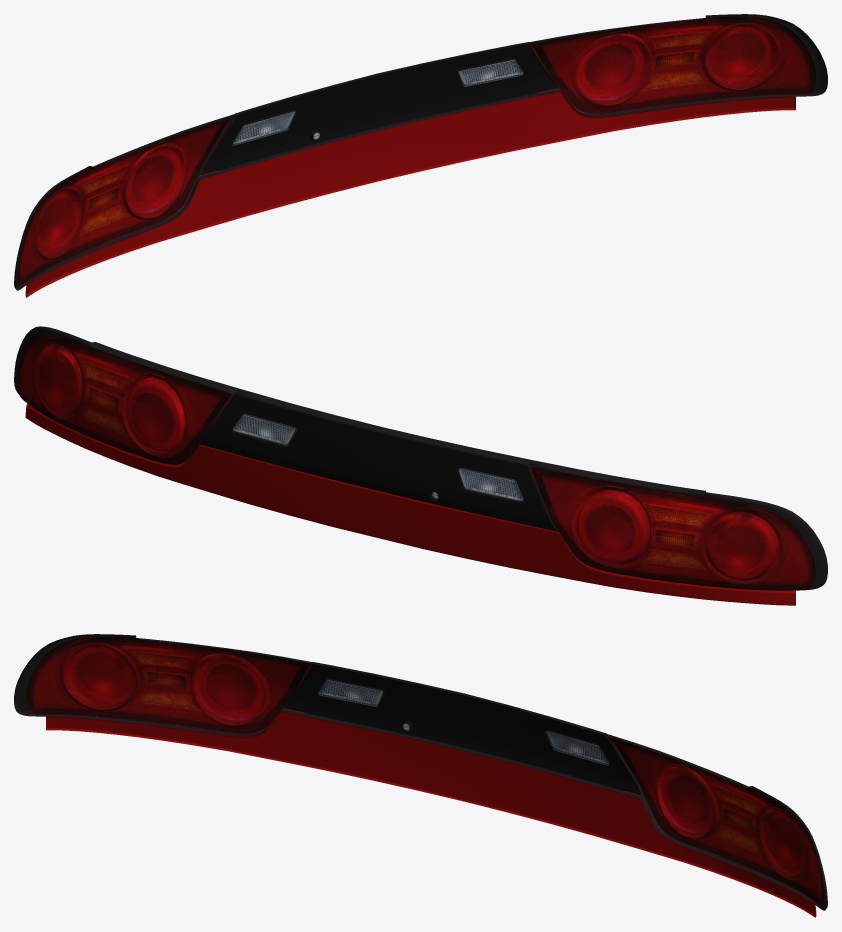
File: taillight_oemkouki.glb
The picture shows the model from 3 angles, top to bottom: view 1: azimuth 30°, elevation 25°; view 2: azimuth 150°, elevation 25°; view 3: azimuth 330°, elevation 25°; orthographic projection.
Visible parts, largest first — view 1: Lights, Garnish, Center, Plastic; view 2: Lights, Garnish, Center, Plastic; view 3: Lights, Garnish, Center, Plastic.
Boxes of the visible parts, x1=… form: Lights: x1=18, y1=16, x2=815, y2=286; Garnish: x1=25, y1=88, x2=795, y2=297; Center: x1=200, y1=44, x2=557, y2=175; Plastic: x1=14, y1=14, x2=827, y2=290; Lights: x1=17, y1=333, x2=815, y2=590; Garnish: x1=25, y1=404, x2=795, y2=605; Center: x1=199, y1=394, x2=558, y2=531; Plastic: x1=14, y1=326, x2=827, y2=590; Lights: x1=26, y1=636, x2=823, y2=906; Garnish: x1=46, y1=708, x2=816, y2=917; Center: x1=284, y1=664, x2=641, y2=795; Plastic: x1=14, y1=634, x2=827, y2=910.
Size of the model in its own units: 1.56 by 0.1999 by 0.1624.
7 materials, 5 textured.
